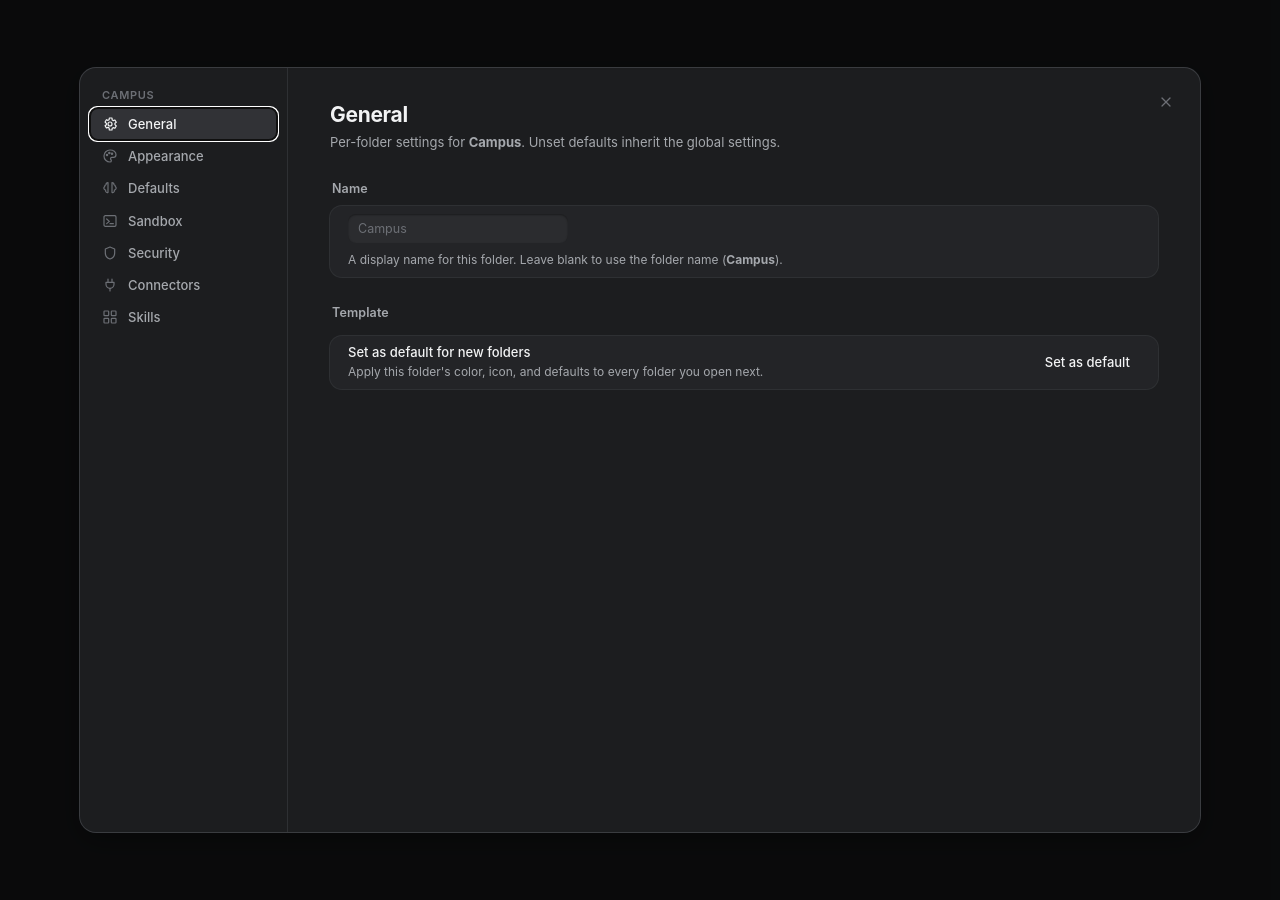
Test case: ProjectSettingsModal — Connectors/Skills tabs › Connectors tab renders real content, not the placeholder
Step 1. Click the button "Connectors" → click(184, 285), box 90,269 -> 277,301
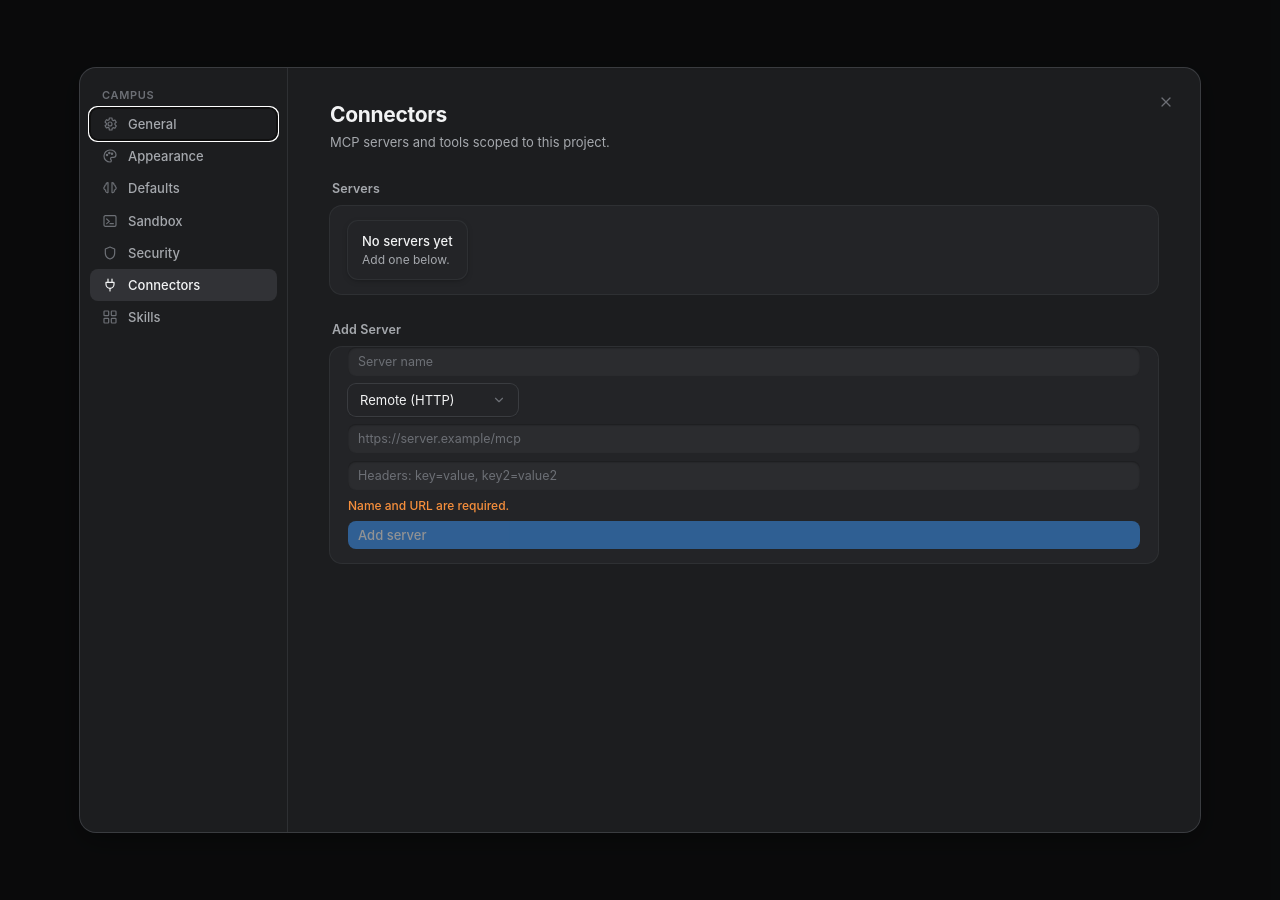
Now the text "Add Server" is shown, box 332,322 -> 401,336
